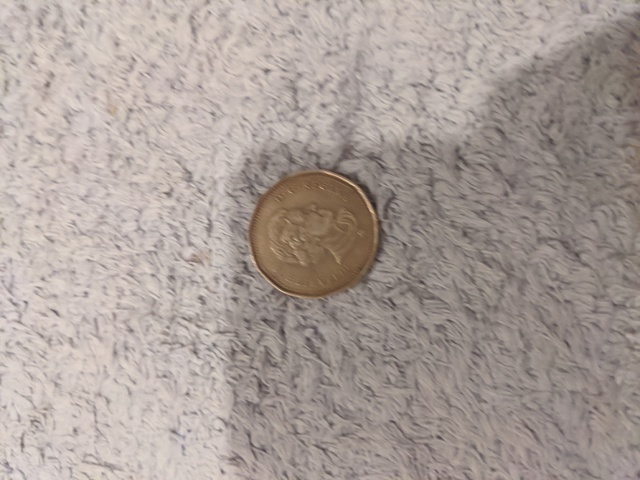loonie: (228, 156, 392, 300)
